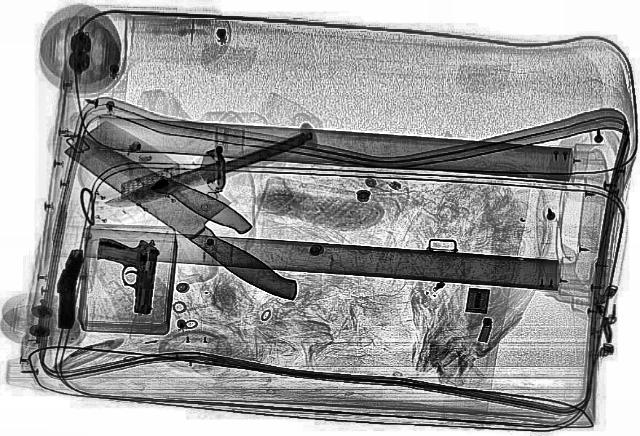Gun: (88, 236, 162, 314), (52, 249, 84, 327)
Knife: (48, 116, 340, 306), (56, 121, 260, 237), (101, 132, 316, 213)
